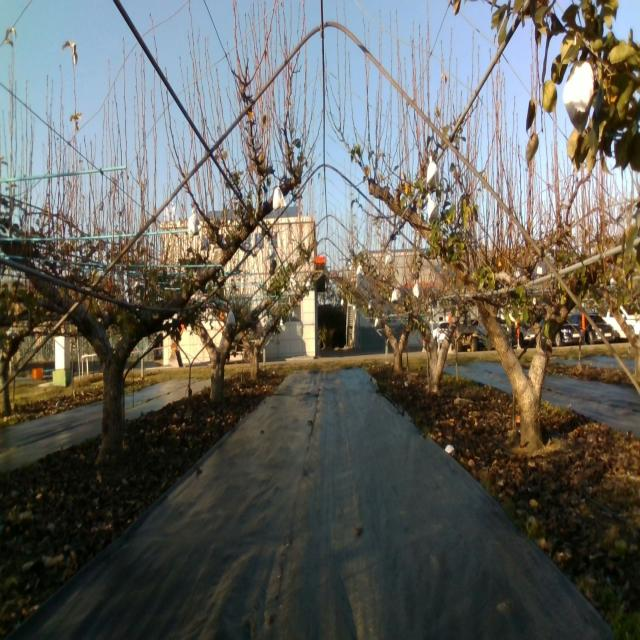pearbags: (562, 52, 595, 124), (426, 157, 439, 190), (188, 210, 202, 240), (272, 186, 287, 211), (426, 192, 438, 220)
